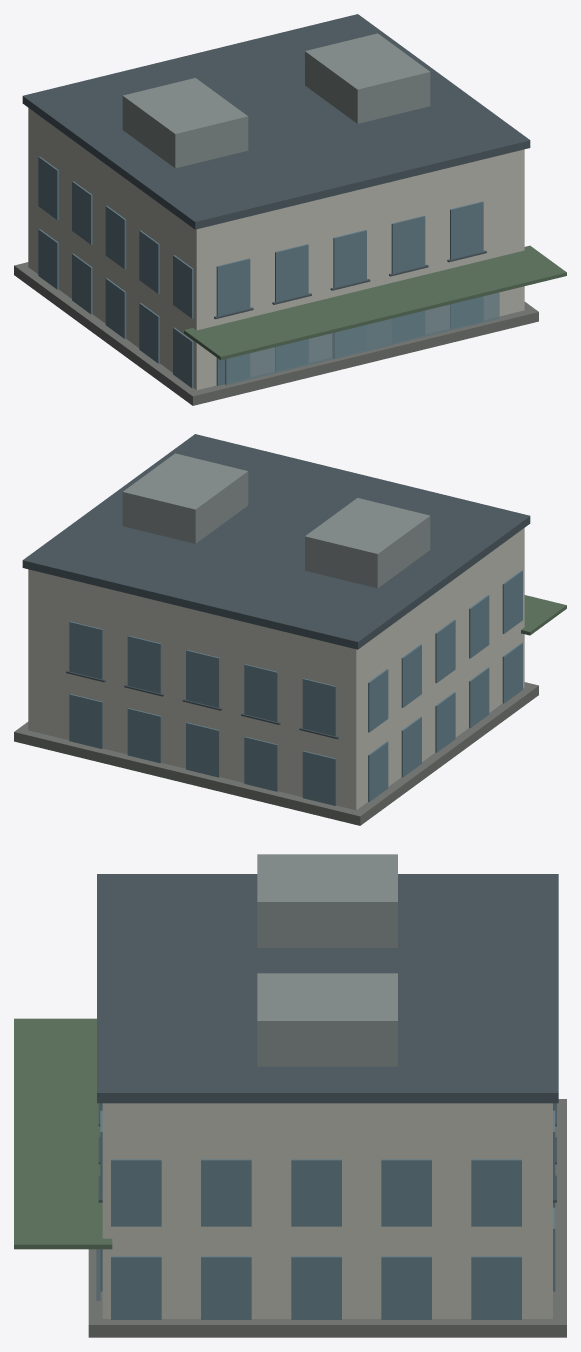
Rendered from building-shop.glb.
3 views of the same model, one above another, from view 1: azimuth 30°, elevation 25°; view 2: azimuth 150°, elevation 25°; view 3: azimuth 270°, elevation 25° (orthographic). The views are drawn at different scales.
Parts seen in each view (by area): view 1: main_volume, roof, window (×19), roof_hvac (×2), awning, foundation, shopfront, entry; view 2: main_volume, roof, window (×20), roof_hvac (×2), foundation, awning; view 3: roof, main_volume, window (×10), roof_hvac (×2), awning, foundation.
Boxes of the visible parts, box(x1,y1,x2,y2) form: main_volume: box(28, 108, 524, 390); roof: box(22, 14, 530, 229); window (×19): box(38, 156, 483, 388); roof_hvac (×2): box(122, 33, 430, 168); awning: box(184, 245, 566, 360); foundation: box(14, 262, 538, 405); shopfront: box(225, 292, 499, 385); entry: box(332, 318, 392, 359); main_volume: box(28, 528, 524, 810); roof: box(22, 434, 530, 649); window (×20): box(69, 570, 522, 805); roof_hvac (×2): box(122, 453, 430, 588); foundation: box(14, 682, 538, 825); awning: box(521, 595, 566, 635); roof: box(97, 874, 558, 1103); main_volume: box(102, 1103, 552, 1318); window (×10): box(111, 1159, 521, 1319); roof_hvac (×2): box(257, 854, 397, 1066); awning: box(14, 1018, 112, 1249); foundation: box(88, 1099, 566, 1337).
Size of the model in its own units: 19 by 11.25 by 19.65.
